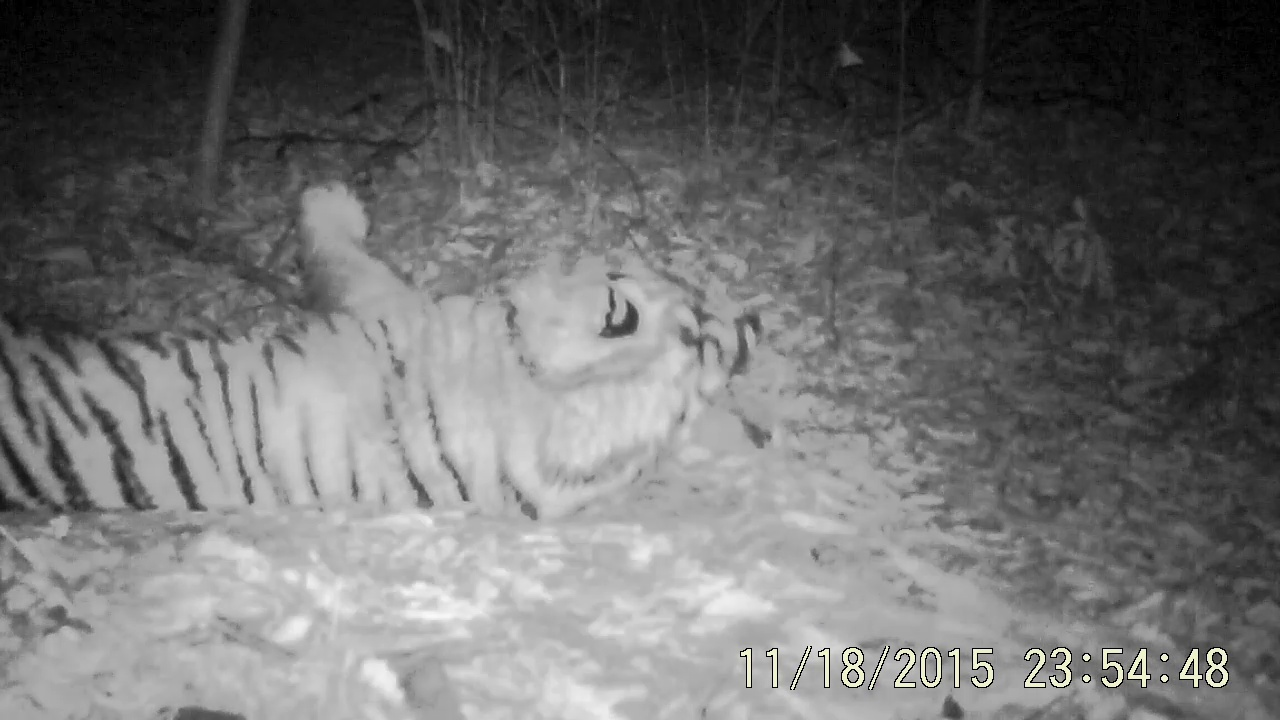Tiger: (5, 112, 931, 589)
